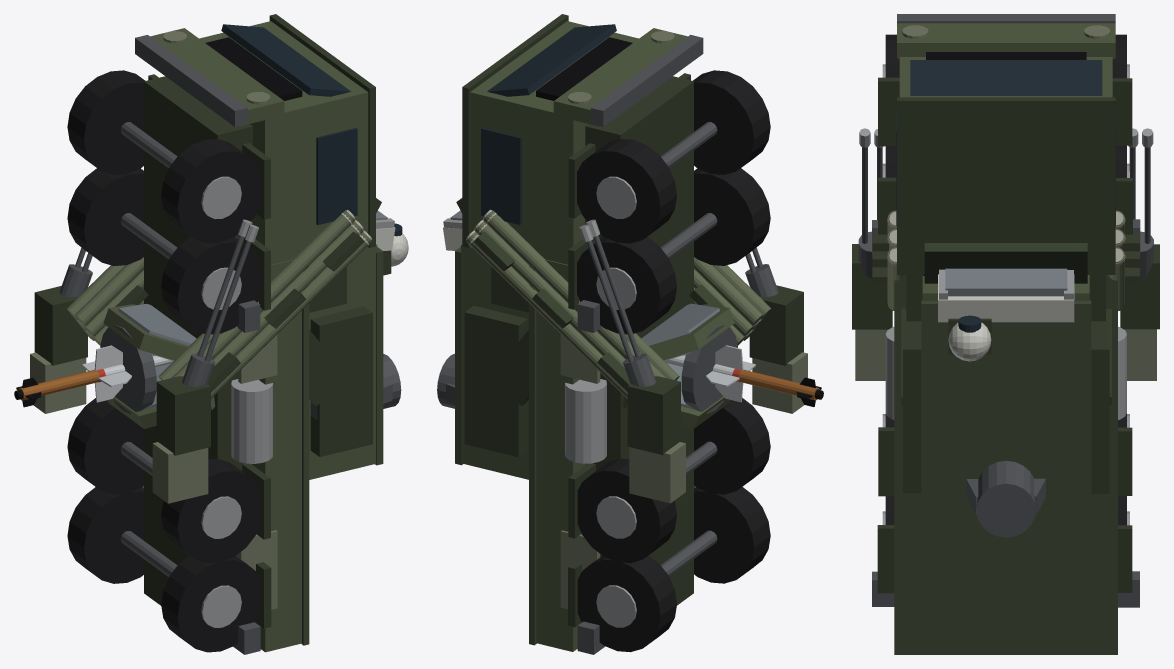
The model's file is AirDefence_MeshAtlas.glb.
3 renders of one model, left to right at view 1: azimuth 30°, elevation 25°; view 2: azimuth 150°, elevation 25°; view 3: azimuth 270°, elevation 25°, orthographic. The views are drawn at different scales.
Parts seen in each view (by area): view 1: AirDefence_Subpart_Chassis, AirDefence_Subpart_Guns, AirDefence_Subpart_Turret, AirDefence_Subpart_Pods, AirDefence_Subpart_Radar, AirDefence_Subpart_Fins, AirDefence_Subpart_Missile; view 2: AirDefence_Subpart_Chassis, AirDefence_Subpart_Guns, AirDefence_Subpart_Turret, AirDefence_Subpart_Pods, AirDefence_Subpart_Radar, AirDefence_Subpart_Fins, AirDefence_Subpart_Missile; view 3: AirDefence_Subpart_Chassis, AirDefence_Subpart_Turret, AirDefence_Subpart_Guns, AirDefence_Subpart_Pods.
Boxes of the visible parts, x1,y1,x2,y2 form: AirDefence_Subpart_Chassis: (67, 14, 375, 654); AirDefence_Subpart_Guns: (30, 219, 258, 503); AirDefence_Subpart_Turret: (309, 198, 408, 479); AirDefence_Subpart_Pods: (66, 210, 372, 406); AirDefence_Subpart_Radar: (100, 303, 215, 428); AirDefence_Subpart_Fins: (16, 345, 131, 407); AirDefence_Subpart_Missile: (14, 355, 173, 400); AirDefence_Subpart_Chassis: (462, 14, 770, 654); AirDefence_Subpart_Guns: (579, 219, 807, 503); AirDefence_Subpart_Turret: (437, 198, 528, 479); AirDefence_Subpart_Pods: (466, 209, 771, 405); AirDefence_Subpart_Radar: (623, 303, 737, 428); AirDefence_Subpart_Fins: (706, 345, 821, 406); AirDefence_Subpart_Missile: (664, 355, 823, 400); AirDefence_Subpart_Chassis: (872, 14, 1140, 654); AirDefence_Subpart_Turret: (903, 243, 1109, 537); AirDefence_Subpart_Guns: (852, 128, 1159, 380); AirDefence_Subpart_Pods: (872, 210, 1139, 405).
Size of the model in its own units: 5.7 by 8.04 by 3.72.
1 material, 1 textured.
